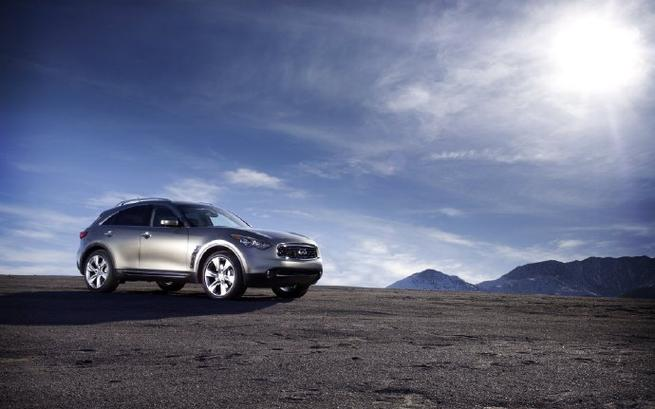汽车: (68, 195, 327, 304)
